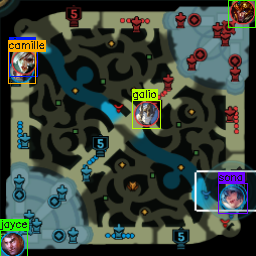camille: (9, 58, 33, 81)
galio: (133, 100, 159, 126)
jarvaniv: (230, 1, 255, 23)
jayce: (1, 231, 25, 256)
riven: (11, 48, 35, 74)
sona: (220, 186, 243, 209)
